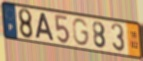3: (110, 23, 126, 54)
5: (54, 14, 71, 45)
8: (18, 7, 34, 40), (92, 21, 107, 50)
A: (35, 11, 55, 42)
G: (72, 18, 91, 48)
